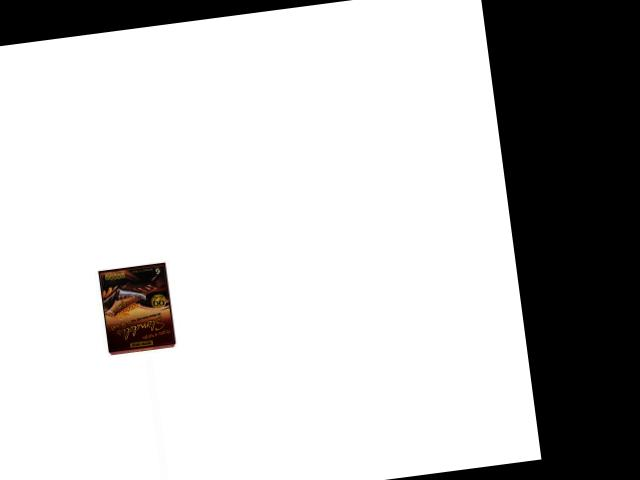chocolate: (98, 262, 176, 355)
